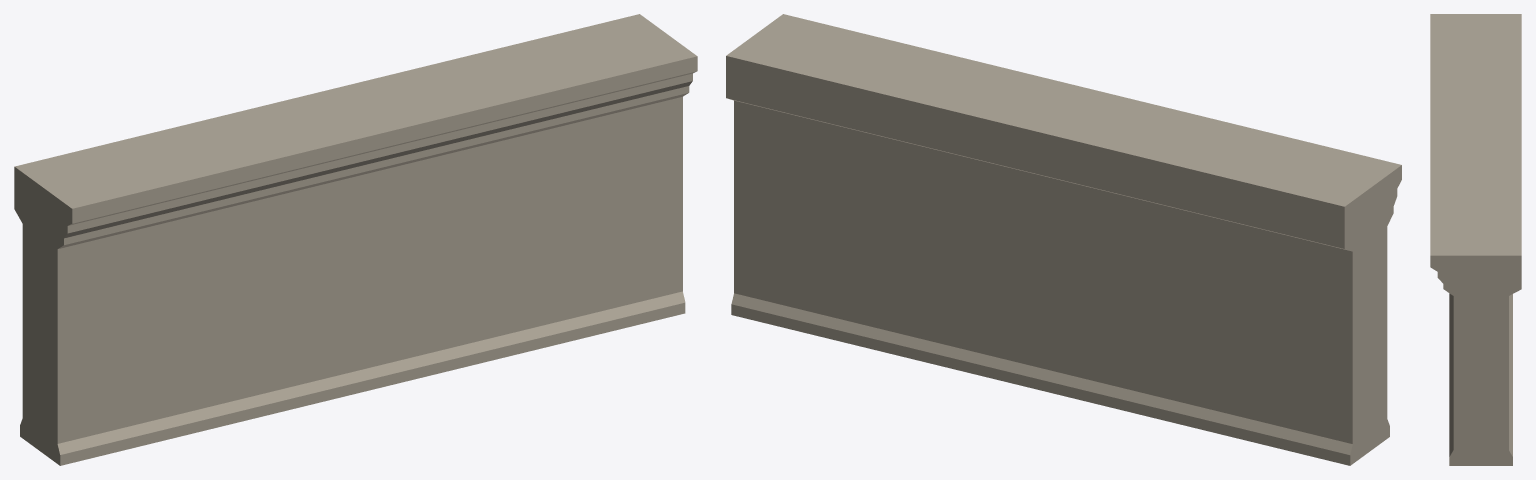
Rendered from BC_InsideFrame_A.fbx.
3 views of the same model, side by side, from view 1: azimuth 30°, elevation 25°; view 2: azimuth 150°, elevation 25°; view 3: azimuth 270°, elevation 25° (orthographic). The views are drawn at different scales.
Visible parts, largest first — view 1: BC_InsideFrame_A; view 2: BC_InsideFrame_A; view 3: BC_InsideFrame_A.
Part boxes in pixels (bbox=[...]): BC_InsideFrame_A: bbox=[14, 14, 697, 465]; BC_InsideFrame_A: bbox=[726, 14, 1401, 465]; BC_InsideFrame_A: bbox=[1430, 14, 1521, 465].
Size of the model in its own units: 448 by 182 by 71.66.
